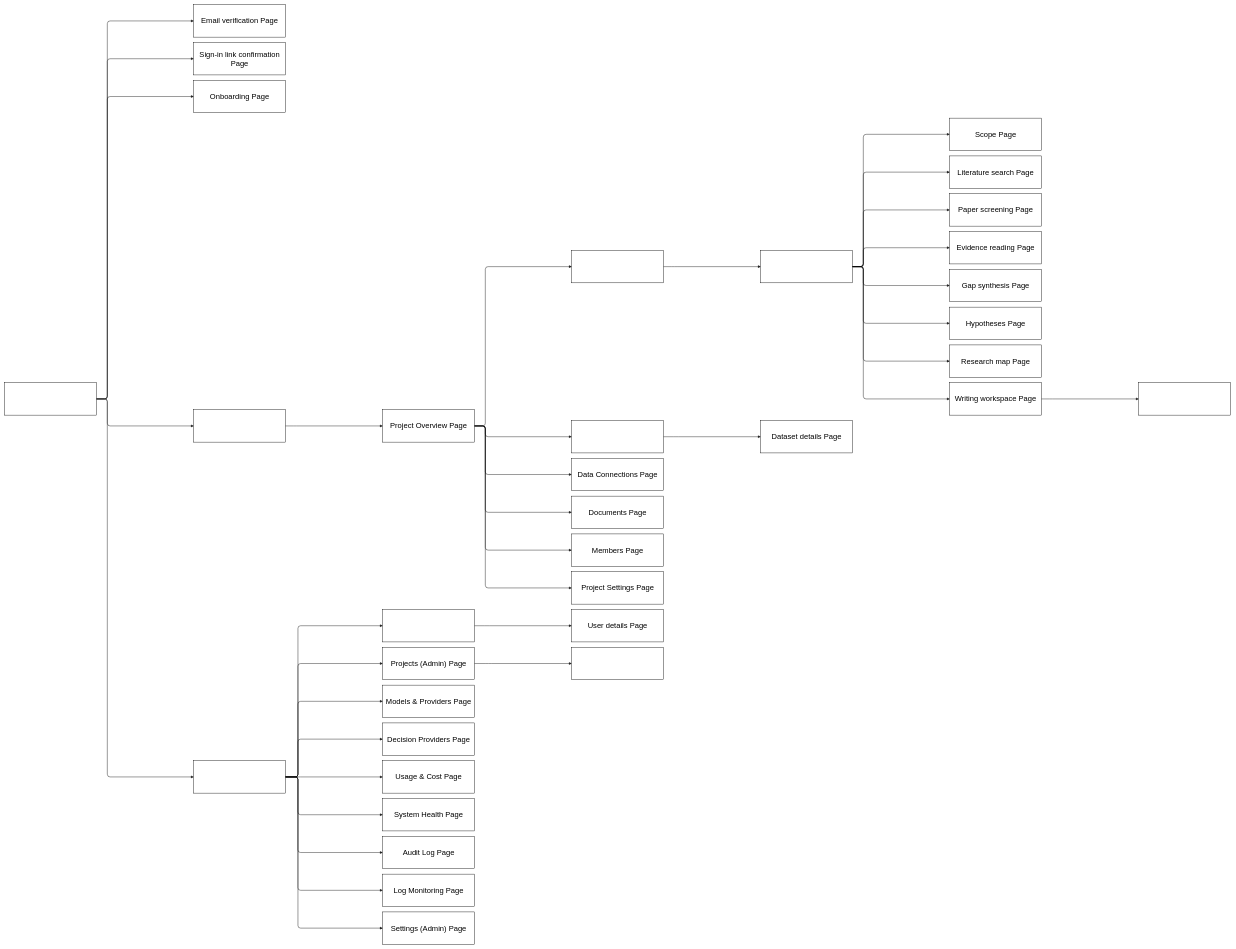
The diagram is 1236 pixels wide and 949 high, and some of its shapes have lost their labels. The shapes that lost their labels are listed below. From the top down, each one's box as (x1, y1, x2, y2) in pixels, then its label:
(571, 250, 664, 283): Research flow Page
(760, 250, 853, 283): Research run workspace Page
(4, 382, 97, 415): Sign in Page
(1138, 382, 1231, 415): Manuscript Page
(193, 409, 286, 442): Projects Page
(571, 420, 664, 453): Datasets Page
(382, 609, 475, 642): Users Page
(571, 647, 664, 680): Project details (Admin) Page
(193, 760, 286, 793): Admin Overview Page
